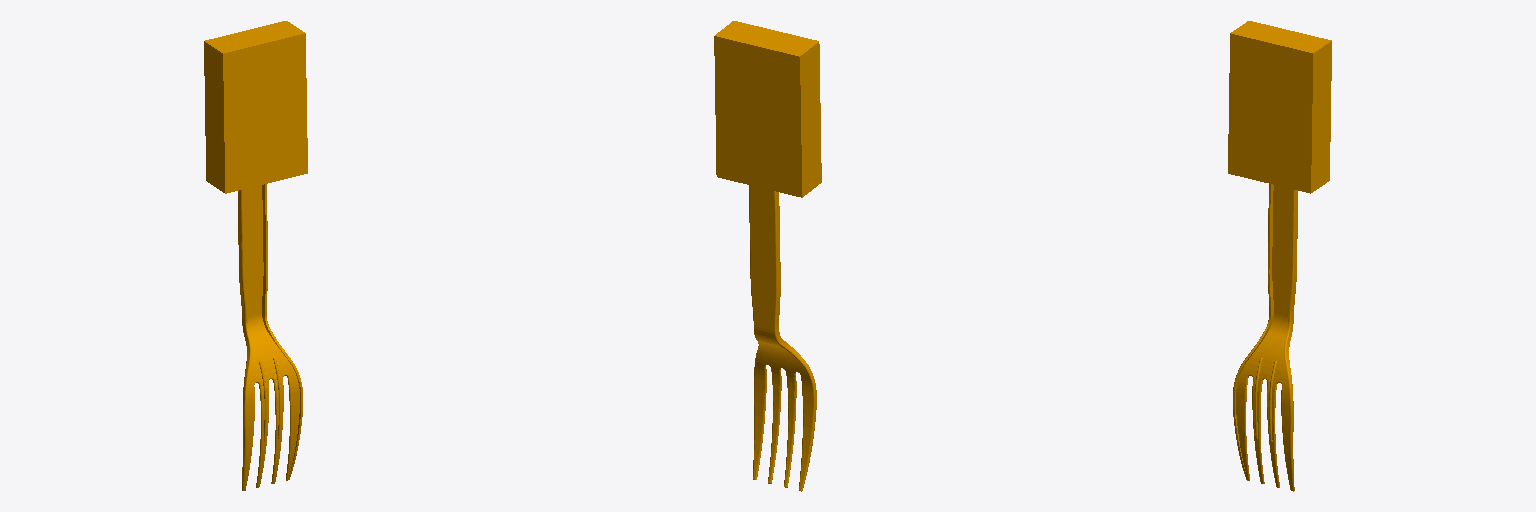
The robot description file, URDF, robot "fork":
<?xml version="1.0" ?>
<robot name="fork">
  <link name="fork">
    <visual>
      <origin xyz="0 0 0"/>
      <geometry>
        <mesh filename="fork.dae" />
      </geometry>
    </visual>
    <collision>
      <origin xyz="0 0 0"/>
      <geometry>
        <mesh filename="fork.dae" />
      </geometry>
    </collision>
    <inertial>
      <mass value="0.5"/> 
      <inertia ixx="0.0001" ixy="0.0" ixz="0.0" iyy="0.0001" iyz="0.0" izz="0.0001"/>
    </inertial>
  </link>
</robot>

--- Facts derived from the render (not from the file) ---
Views: 3 orthographic renders of the robot side by side, from view 1: azimuth 30°, elevation 25°; view 2: azimuth 150°, elevation 25°; view 3: azimuth 330°, elevation 25°.
Robot: fork — 1 links, 0 joints (none); root link fork; default pose: every joint at zero.
Visible links, largest first — view 1: fork; view 2: fork; view 3: fork.
Link boxes in pixels (<box>): fork: <box>204,21,307,490</box>; fork: <box>714,21,821,491</box>; fork: <box>1228,21,1331,491</box>.
Bounding box of the posed robot: 0.0399 × 0.0242 × 0.2027 m (x, y, z).
1 mesh visuals loaded from 1 distinct referenced files (1 Collada DAE).